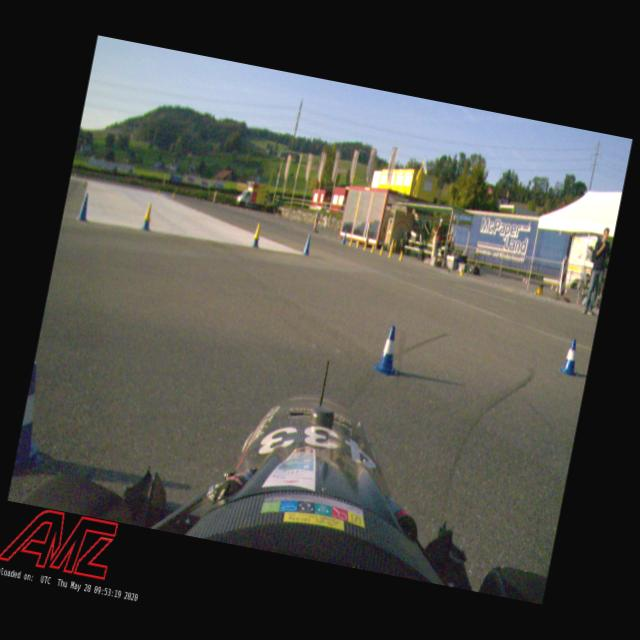blue_cone: (372, 322, 405, 378), (559, 336, 583, 378), (301, 232, 313, 255)
yellow_cone: (533, 286, 544, 296), (458, 264, 466, 277), (398, 250, 404, 262), (387, 248, 392, 258), (379, 246, 384, 256), (370, 243, 375, 253), (355, 240, 360, 249), (348, 238, 353, 247), (363, 243, 368, 251)
